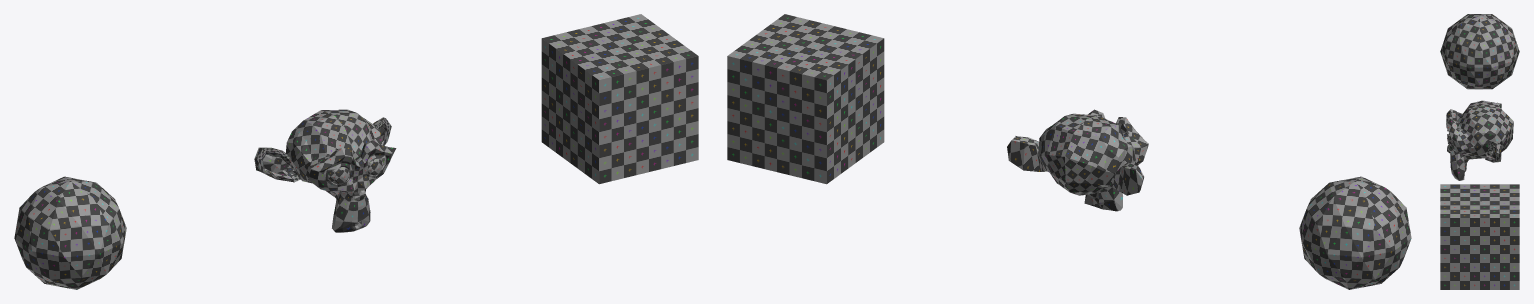
The model's file is figures.glb.
3 renders of one model, left to right at view 1: azimuth 30°, elevation 25°; view 2: azimuth 150°, elevation 25°; view 3: azimuth 270°, elevation 25°, orthographic. The views are drawn at different scales.
Parts seen in each view (by area): view 1: Cube, Icosphere, Suzanne; view 2: Cube, Icosphere, Suzanne; view 3: Cube, Icosphere, Suzanne.
Part boxes in pixels (<box>): Cube: <box>541,14,698,184</box>; Icosphere: <box>14,176,126,289</box>; Suzanne: <box>254,109,396,232</box>; Cube: <box>727,14,884,184</box>; Icosphere: <box>1299,176,1411,289</box>; Suzanne: <box>1007,109,1148,211</box>; Cube: <box>1440,184,1519,289</box>; Icosphere: <box>1440,14,1519,89</box>; Suzanne: <box>1446,100,1513,180</box>.
Size of the model in its own units: 13.01 by 2 by 2.
1 material, 1 textured.
